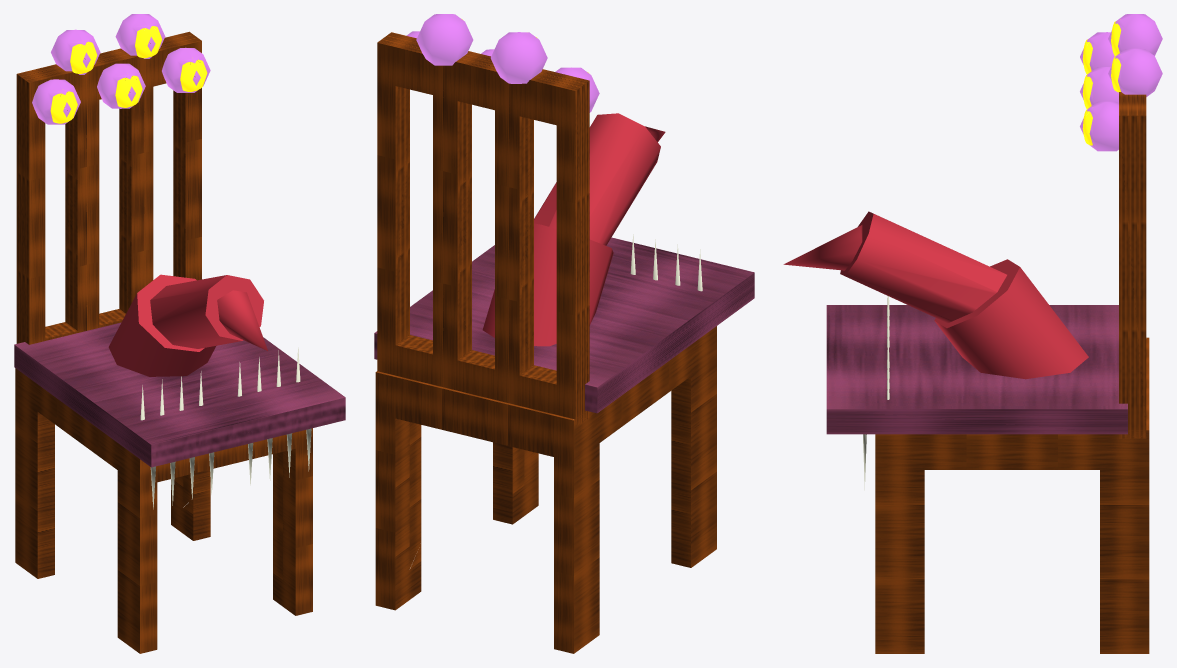
File: chair.gltf
3 renders of one model, left to right at view 1: azimuth 30°, elevation 25°; view 2: azimuth 150°, elevation 25°; view 3: azimuth 270°, elevation 25°, orthographic. The views are drawn at different scales.
Parts seen in each view (by area): view 1: CSGBox3D2, CSGBox3D10, CSGCylinder3D2, Eye2, Eye32, Eye23, Eye52, Eye42; view 2: CSGBox3D2, CSGBox3D10, CSGCylinder3D2, Eye42, Eye52; view 3: CSGBox3D2, CSGBox3D10, CSGCylinder3D2, Eye42, Eye52, Eye23, Eye2, Eye32.
Boxes of the visible parts, x1,y1,x2,y2 form: CSGBox3D2: (15, 31, 312, 653); CSGBox3D10: (14, 322, 345, 467); CSGCylinder3D2: (108, 274, 267, 376); Eye2: (97, 63, 145, 108); Eye32: (32, 79, 80, 124); Eye23: (162, 47, 210, 92); Eye52: (51, 29, 100, 74); Eye42: (115, 14, 165, 58); CSGBox3D2: (375, 32, 716, 653); CSGBox3D10: (374, 237, 754, 413); CSGCylinder3D2: (482, 113, 665, 346); Eye42: (416, 14, 473, 65); Eye52: (490, 32, 547, 83); CSGBox3D2: (875, 92, 1149, 653); CSGBox3D10: (826, 305, 1127, 434); CSGCylinder3D2: (783, 211, 1088, 379); Eye42: (1108, 48, 1162, 96); Eye52: (1108, 14, 1162, 55); Eye23: (1080, 101, 1118, 151); Eye2: (1080, 67, 1118, 108); Eye32: (1080, 32, 1114, 74).
Bounding box in the file's own units: 0.9 × 2.32 × 1.38.
Materials: 7 (2 with a texture image).
